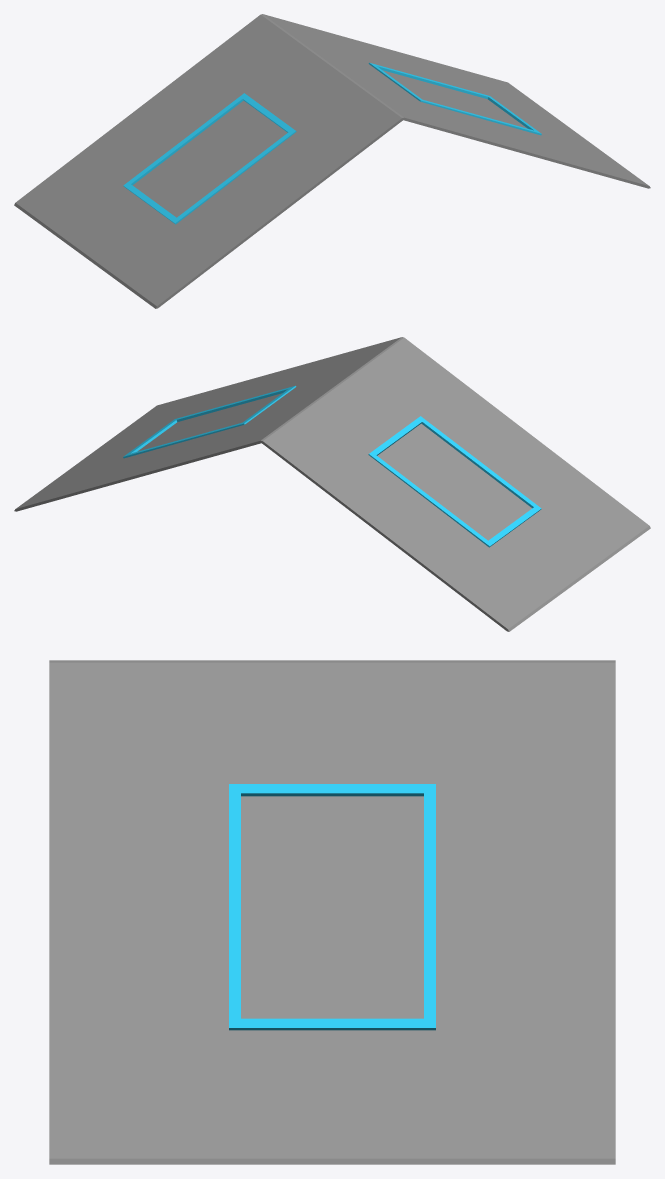
The model's file is WH_Roof_Single_Windows.FBX.
3 renders of one model, top to bottom at view 1: azimuth 30°, elevation 25°; view 2: azimuth 150°, elevation 25°; view 3: azimuth 270°, elevation 25°, orthographic. The views are drawn at different scales.
Parts seen in each view (by area): view 1: WH_Roof_Single_Windows; view 2: WH_Roof_Single_Windows; view 3: WH_Roof_Single_Windows.
Part boxes in pixels (<box>): WH_Roof_Single_Windows: <box>14,14,650,308</box>; WH_Roof_Single_Windows: <box>14,337,650,631</box>; WH_Roof_Single_Windows: <box>49,660,615,1164</box>.
Size of the model in its own units: 1010 by 500 by 254.
